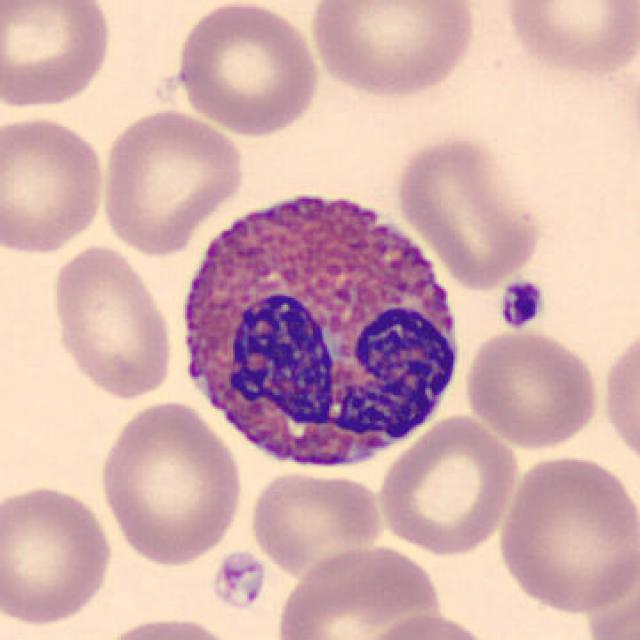Eosinophil: (163, 166, 474, 487)
Platelets: (210, 550, 268, 610), (496, 277, 548, 331)
RBC: (94, 398, 246, 568), (391, 130, 546, 291), (494, 451, 638, 617), (98, 106, 245, 257), (375, 411, 523, 557), (46, 242, 178, 402), (170, 0, 322, 138), (462, 326, 603, 452), (0, 479, 117, 629), (270, 541, 446, 640), (306, 0, 480, 100), (0, 110, 108, 257), (245, 467, 388, 577), (0, 0, 116, 113), (500, 0, 638, 81), (599, 319, 640, 478), (579, 545, 640, 640), (93, 612, 247, 640), (358, 610, 500, 640)
